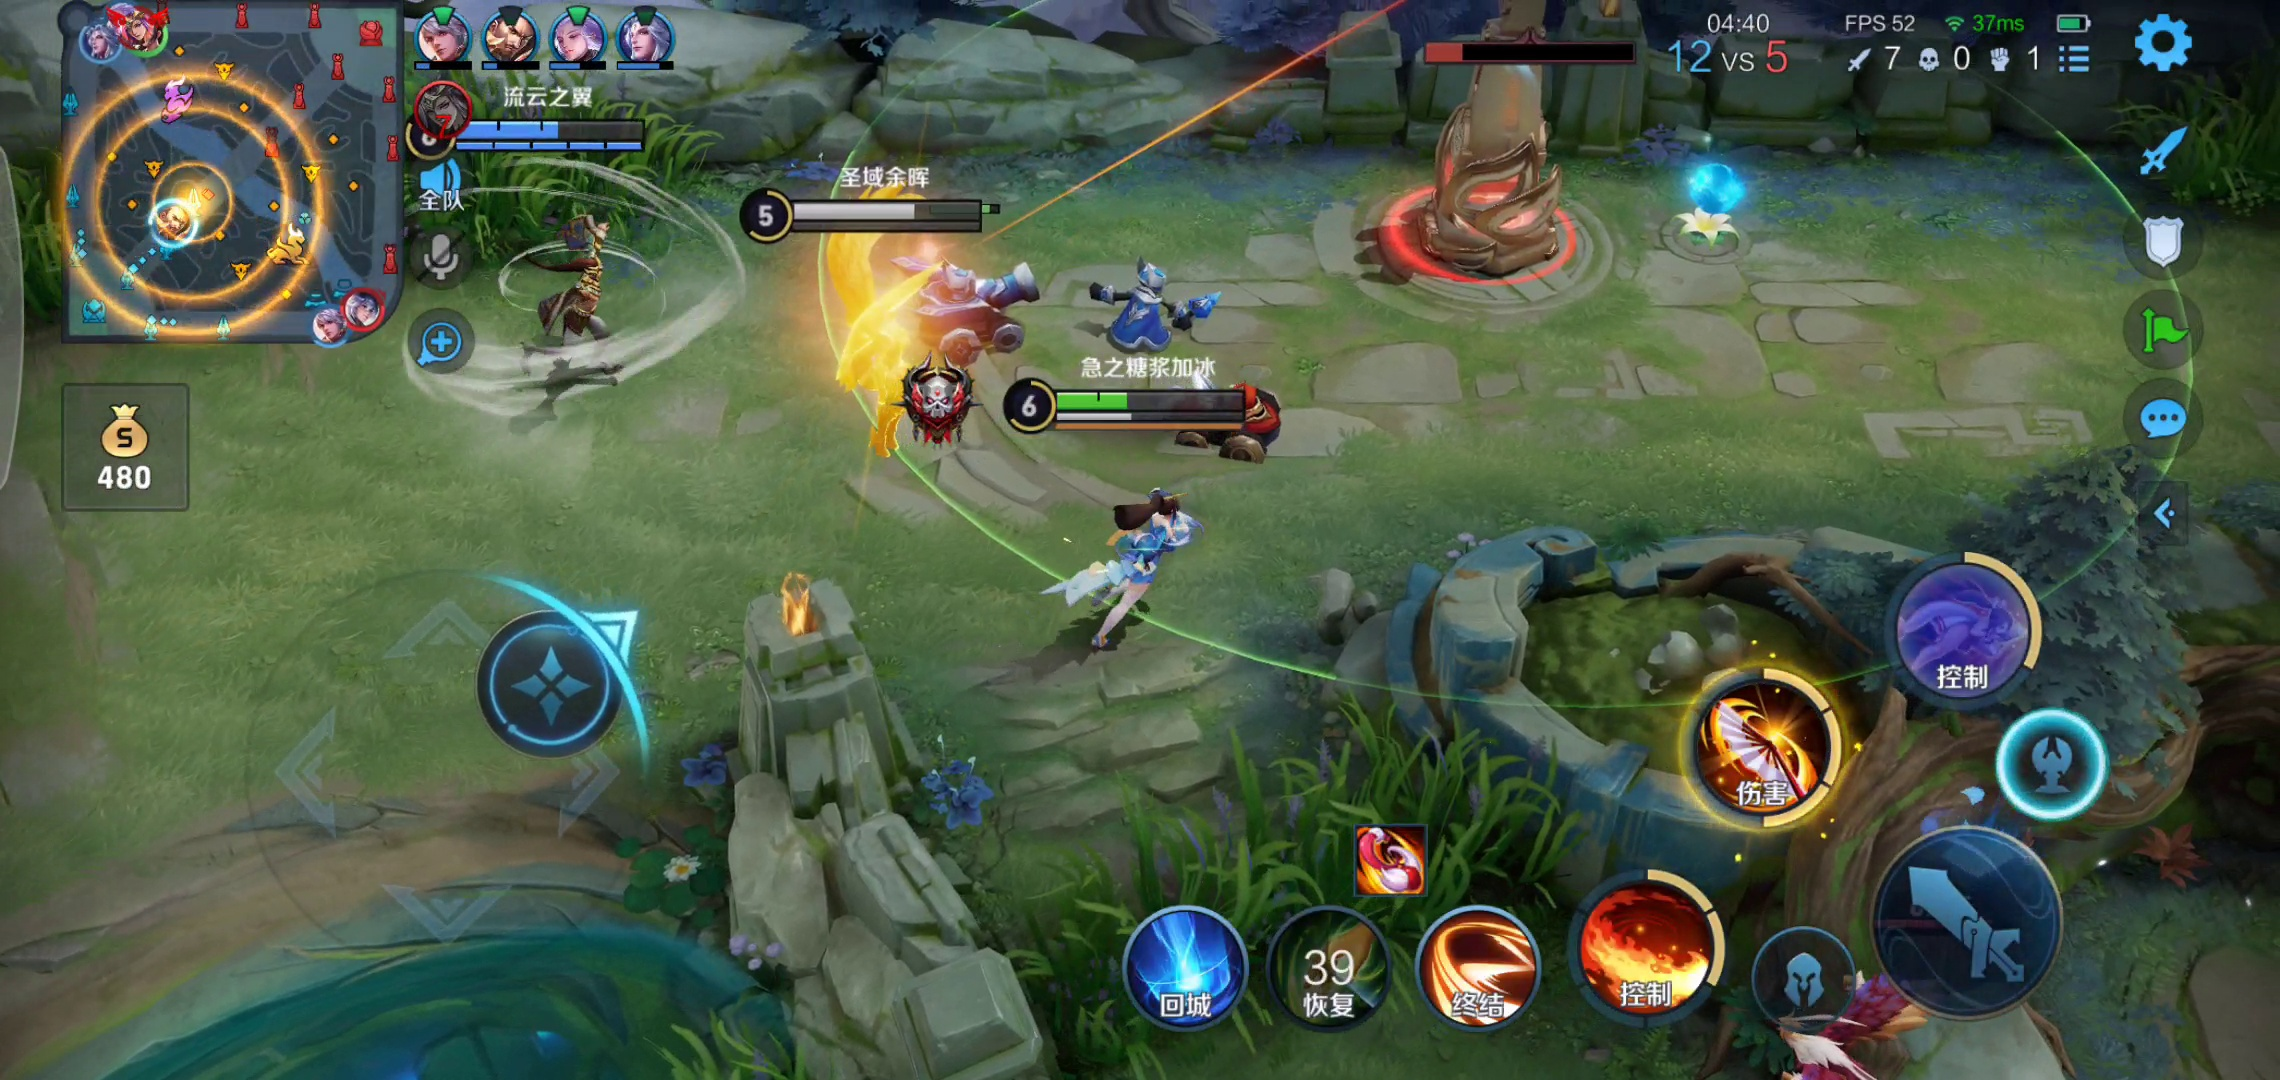grass: (1003, 731, 1573, 1045), (413, 77, 710, 247), (2122, 74, 2280, 212)
hero: (1045, 477, 1214, 667), (512, 225, 654, 381), (808, 254, 920, 451)
soldier: (1082, 257, 1221, 360), (923, 250, 1040, 363), (1188, 374, 1288, 464)
tower: (1389, 1, 1602, 298)
